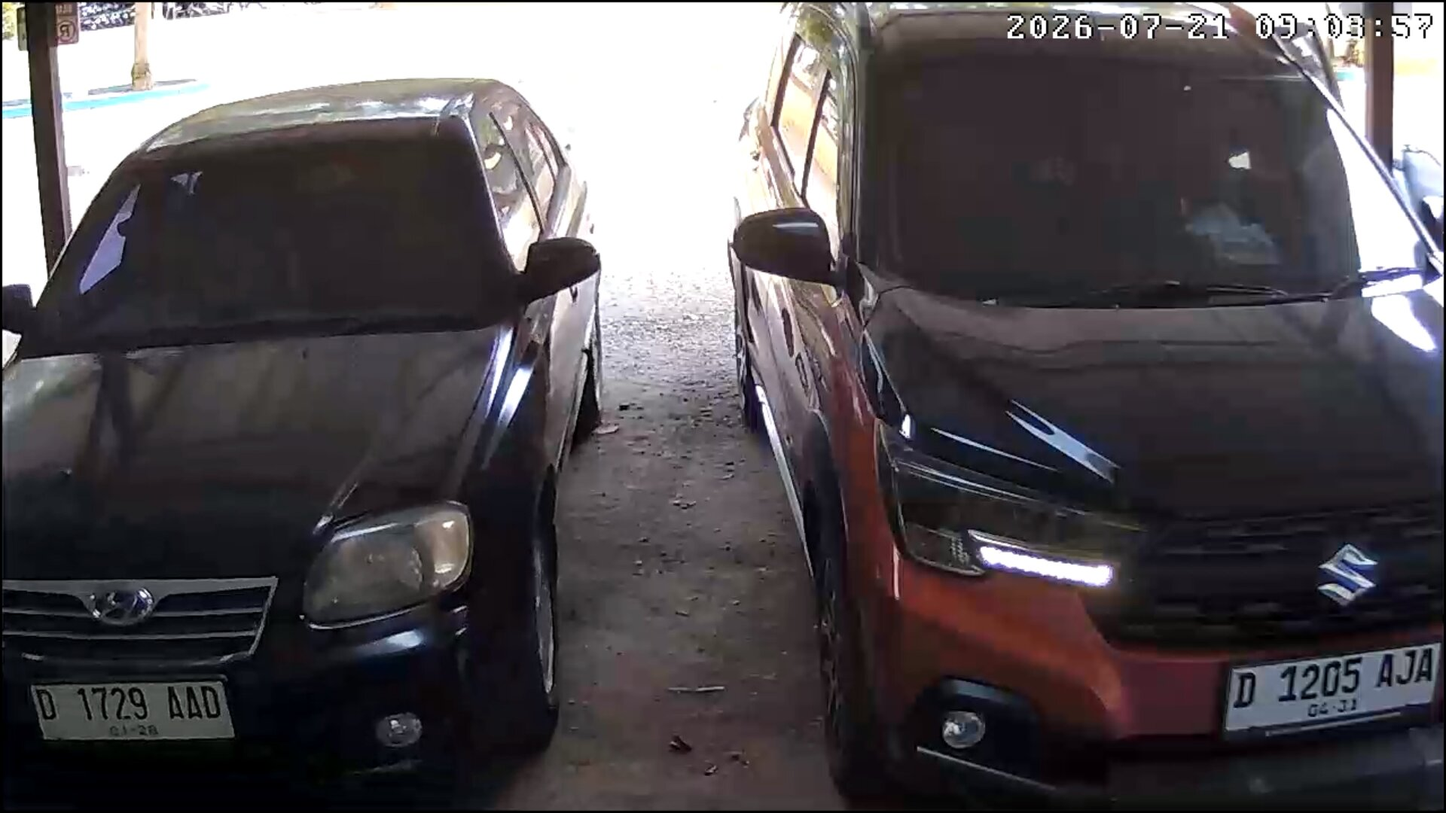plat nomor: (1222, 641, 1443, 736), (27, 679, 238, 745)
